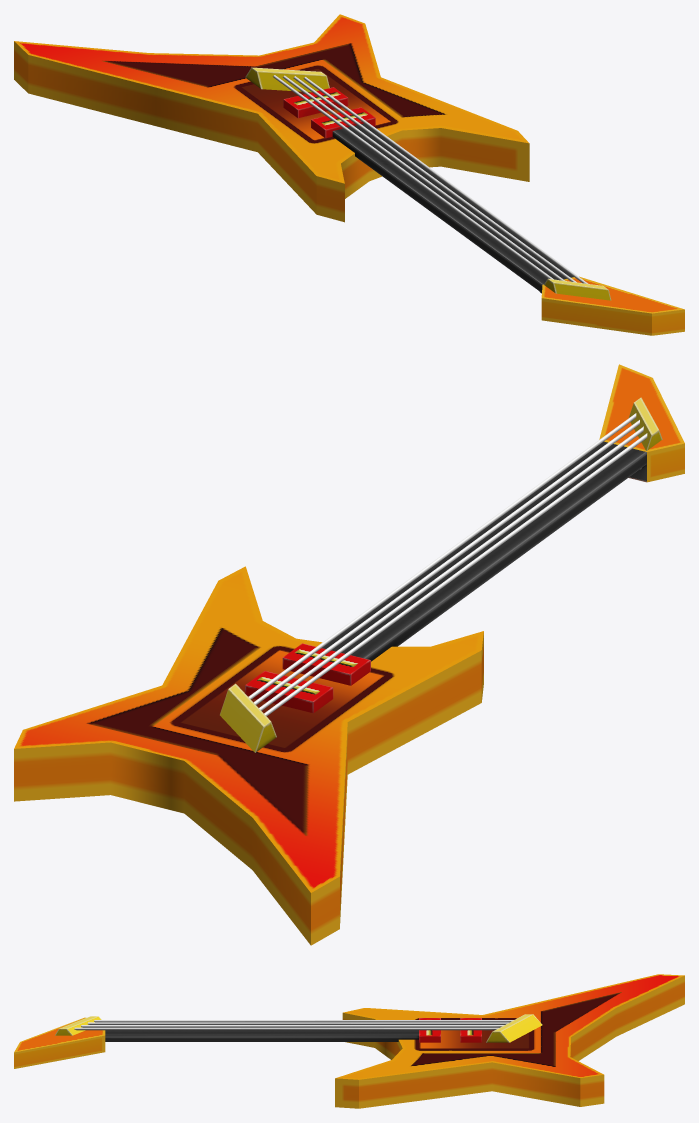
File: Guitar.fbx
The picture shows the model from 3 angles, top to bottom: view 1: azimuth 30°, elevation 25°; view 2: azimuth 150°, elevation 25°; view 3: azimuth 270°, elevation 25°; orthographic projection. The views are drawn at different scales.
Visible parts, largest first — view 1: Guitar; view 2: Guitar; view 3: Guitar.
Boxes of the visible parts, x1=… form: Guitar: x1=14, y1=14, x2=684, y2=335; Guitar: x1=14, y1=364, x2=684, y2=945; Guitar: x1=14, y1=974, x2=684, y2=1108.
Bounding box in the file's own units: 29.01 × 5.1 × 77.88.
